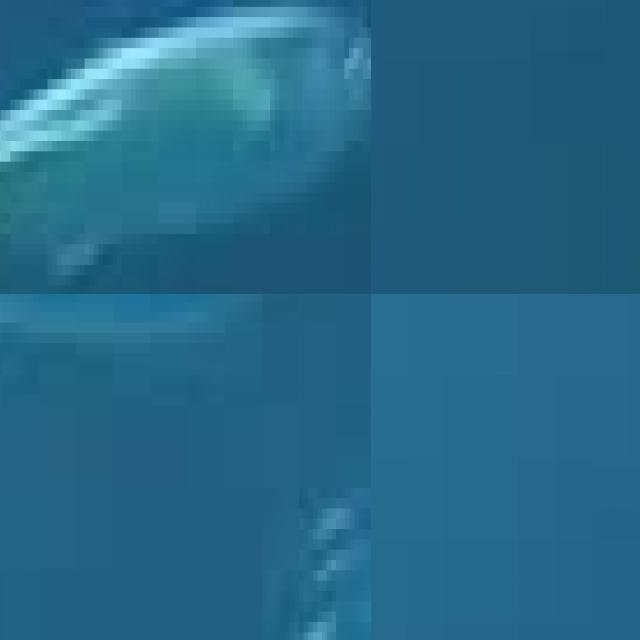fish: (0, 0, 371, 294), (398, 294, 640, 478), (0, 294, 336, 384)
